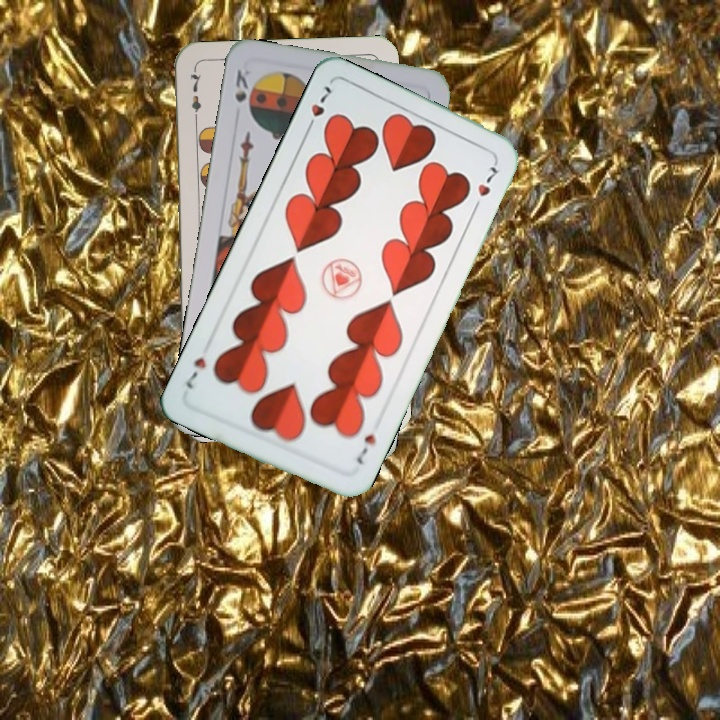E7: (186, 67, 204, 126)
H7: (301, 81, 334, 136), (352, 429, 379, 467)
SK: (230, 65, 251, 105)
